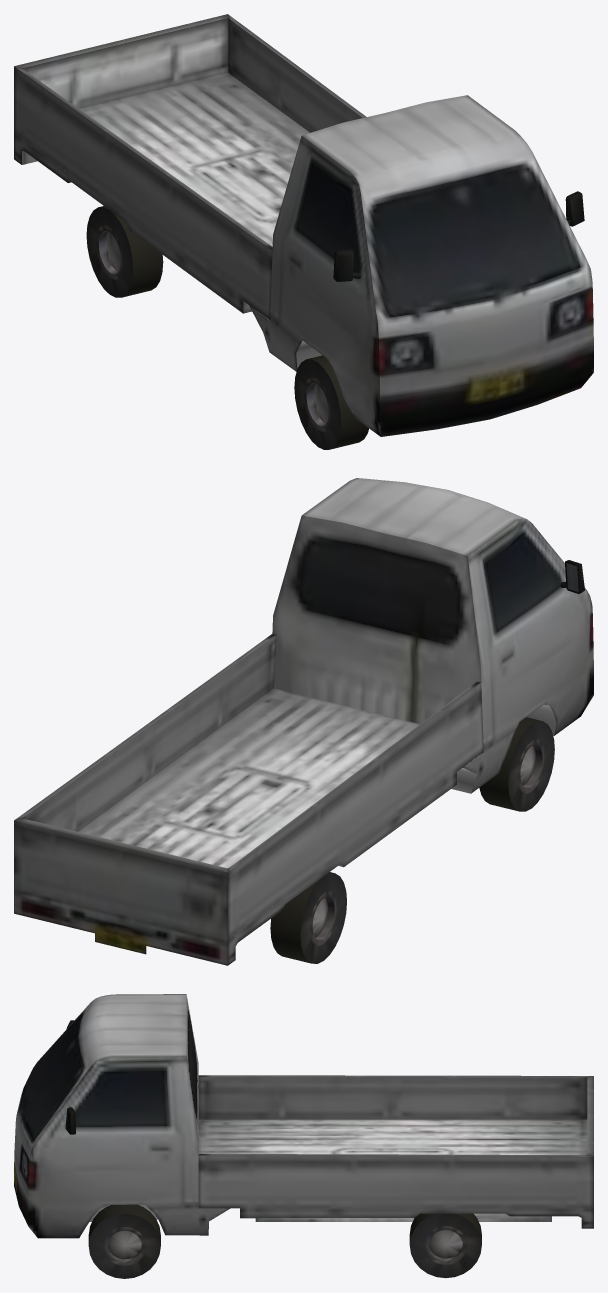
The model's file is n_truck01.glb.
3 renders of one model, top to bottom at view 1: azimuth 30°, elevation 25°; view 2: azimuth 150°, elevation 25°; view 3: azimuth 270°, elevation 25°, orthographic. The views are drawn at different scales.
Visible parts, largest first — view 1: Car_g2_0, wheel_rr, wheel_fr, wheel_rr_1, wheel_fr_1; view 2: Car_g2_0, wheel_rr, wheel_fr, wheel_fr_1, wheel_rr_1; view 3: Car_g2_0, wheel_fl, wheel_rl, wheel_rl_1, wheel_fl_1.
Boxes of the visible parts, left/top/right/bottom form: Car_g2_0: left=14, top=14, right=593, bottom=436; wheel_rr: left=86, top=206, right=163, bottom=297; wheel_fr: left=294, top=355, right=368, bottom=449; wheel_rr_1: left=96, top=225, right=123, bottom=279; wheel_fr_1: left=303, top=377, right=331, bottom=431; Car_g2_0: left=14, top=478, right=593, bottom=965; wheel_rr: left=270, top=872, right=346, bottom=963; wheel_fr: left=479, top=717, right=554, bottom=811; wheel_fr_1: left=517, top=739, right=545, bottom=793; wheel_rr_1: left=310, top=891, right=337, bottom=945; Car_g2_0: left=14, top=994, right=593, bottom=1238; wheel_fl: left=88, top=1204, right=160, bottom=1278; wheel_rl: left=409, top=1213, right=481, bottom=1278; wheel_rl_1: left=424, top=1226, right=467, bottom=1264; wheel_fl_1: left=103, top=1226, right=146, bottom=1265.
Size of the model in its own units: 2.02 by 2.18 by 5.29.
2 materials, 1 textured.
